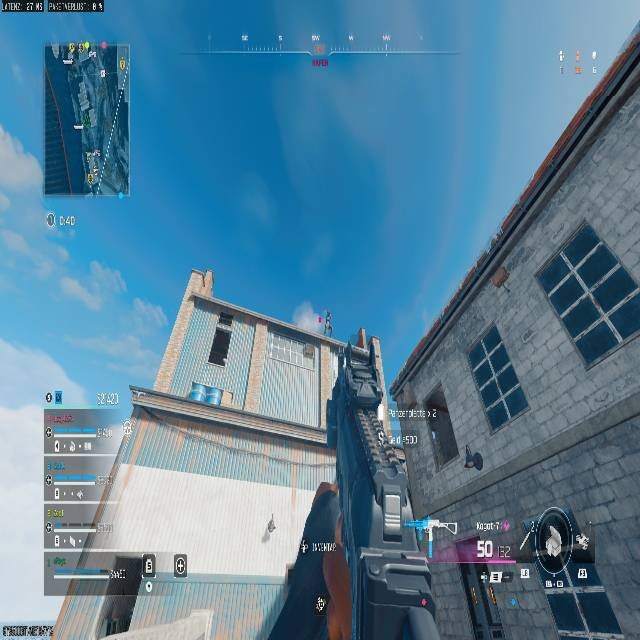player: (380, 431, 405, 477)
